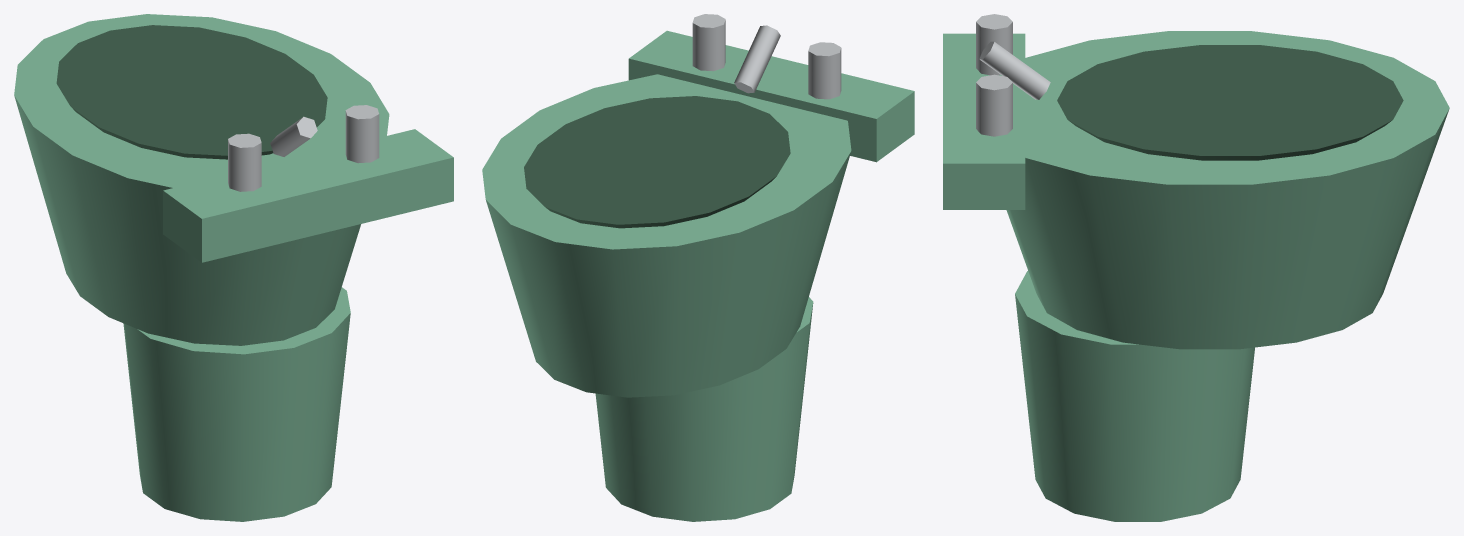
File: bidet-green.obj
3 renders of one model, left to right at view 1: azimuth 30°, elevation 25°; view 2: azimuth 150°, elevation 25°; view 3: azimuth 270°, elevation 25°, orthographic. The views are drawn at different scales.
Visible parts, largest first — view 1: bidet-green_1, bidet-green_0, bidet-green_2, bidet-green_3, bidet-green_5, bidet-green_4, bidet-green_6; view 2: bidet-green_1, bidet-green_2, bidet-green_0, bidet-green_3, bidet-green_4, bidet-green_5, bidet-green_6; view 3: bidet-green_1, bidet-green_0, bidet-green_2, bidet-green_3, bidet-green_5, bidet-green_6, bidet-green_4.
Part boxes in pixels (<box>): bidet-green_1: <box>14,14,389,345</box>; bidet-green_0: <box>123,287,350,521</box>; bidet-green_2: <box>56,25,327,159</box>; bidet-green_3: <box>163,129,453,262</box>; bidet-green_5: <box>345,105,379,163</box>; bidet-green_4: <box>228,133,261,191</box>; bidet-green_6: <box>270,116,317,156</box>; bidet-green_1: <box>482,74,851,397</box>; bidet-green_2: <box>524,96,790,228</box>; bidet-green_0: <box>595,297,813,521</box>; bidet-green_3: <box>628,30,914,162</box>; bidet-green_4: <box>808,42,841,99</box>; bidet-green_5: <box>692,14,725,71</box>; bidet-green_6: <box>734,25,780,93</box>; bidet-green_1: <box>1006,31,1449,349</box>; bidet-green_0: <box>1015,271,1254,521</box>; bidet-green_2: <box>1057,45,1403,160</box>; bidet-green_3: <box>943,33,1025,209</box>; bidet-green_5: <box>976,74,1012,136</box>; bidet-green_6: <box>979,41,1050,99</box>; bidet-green_4: <box>976,14,1012,75</box>.
Size of the model in its own units: 0.3546 by 0.4712 by 0.494.
